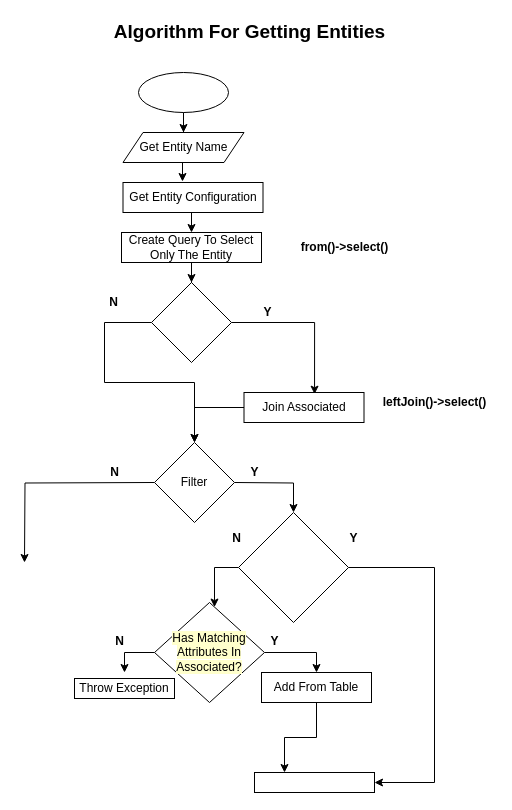
Image size: 512x810. Some labels were removed from this diagram. The shapes that lost their labels are listed below. From the top down, each one's centre as x and y in pixels, then its label:
At (183,92): "Start".
At (191,322): "Has Associations To Fetch Eager".
At (293,567): "Has Matching Attributes For Where Condition".
At (314,782): "Add Where".
